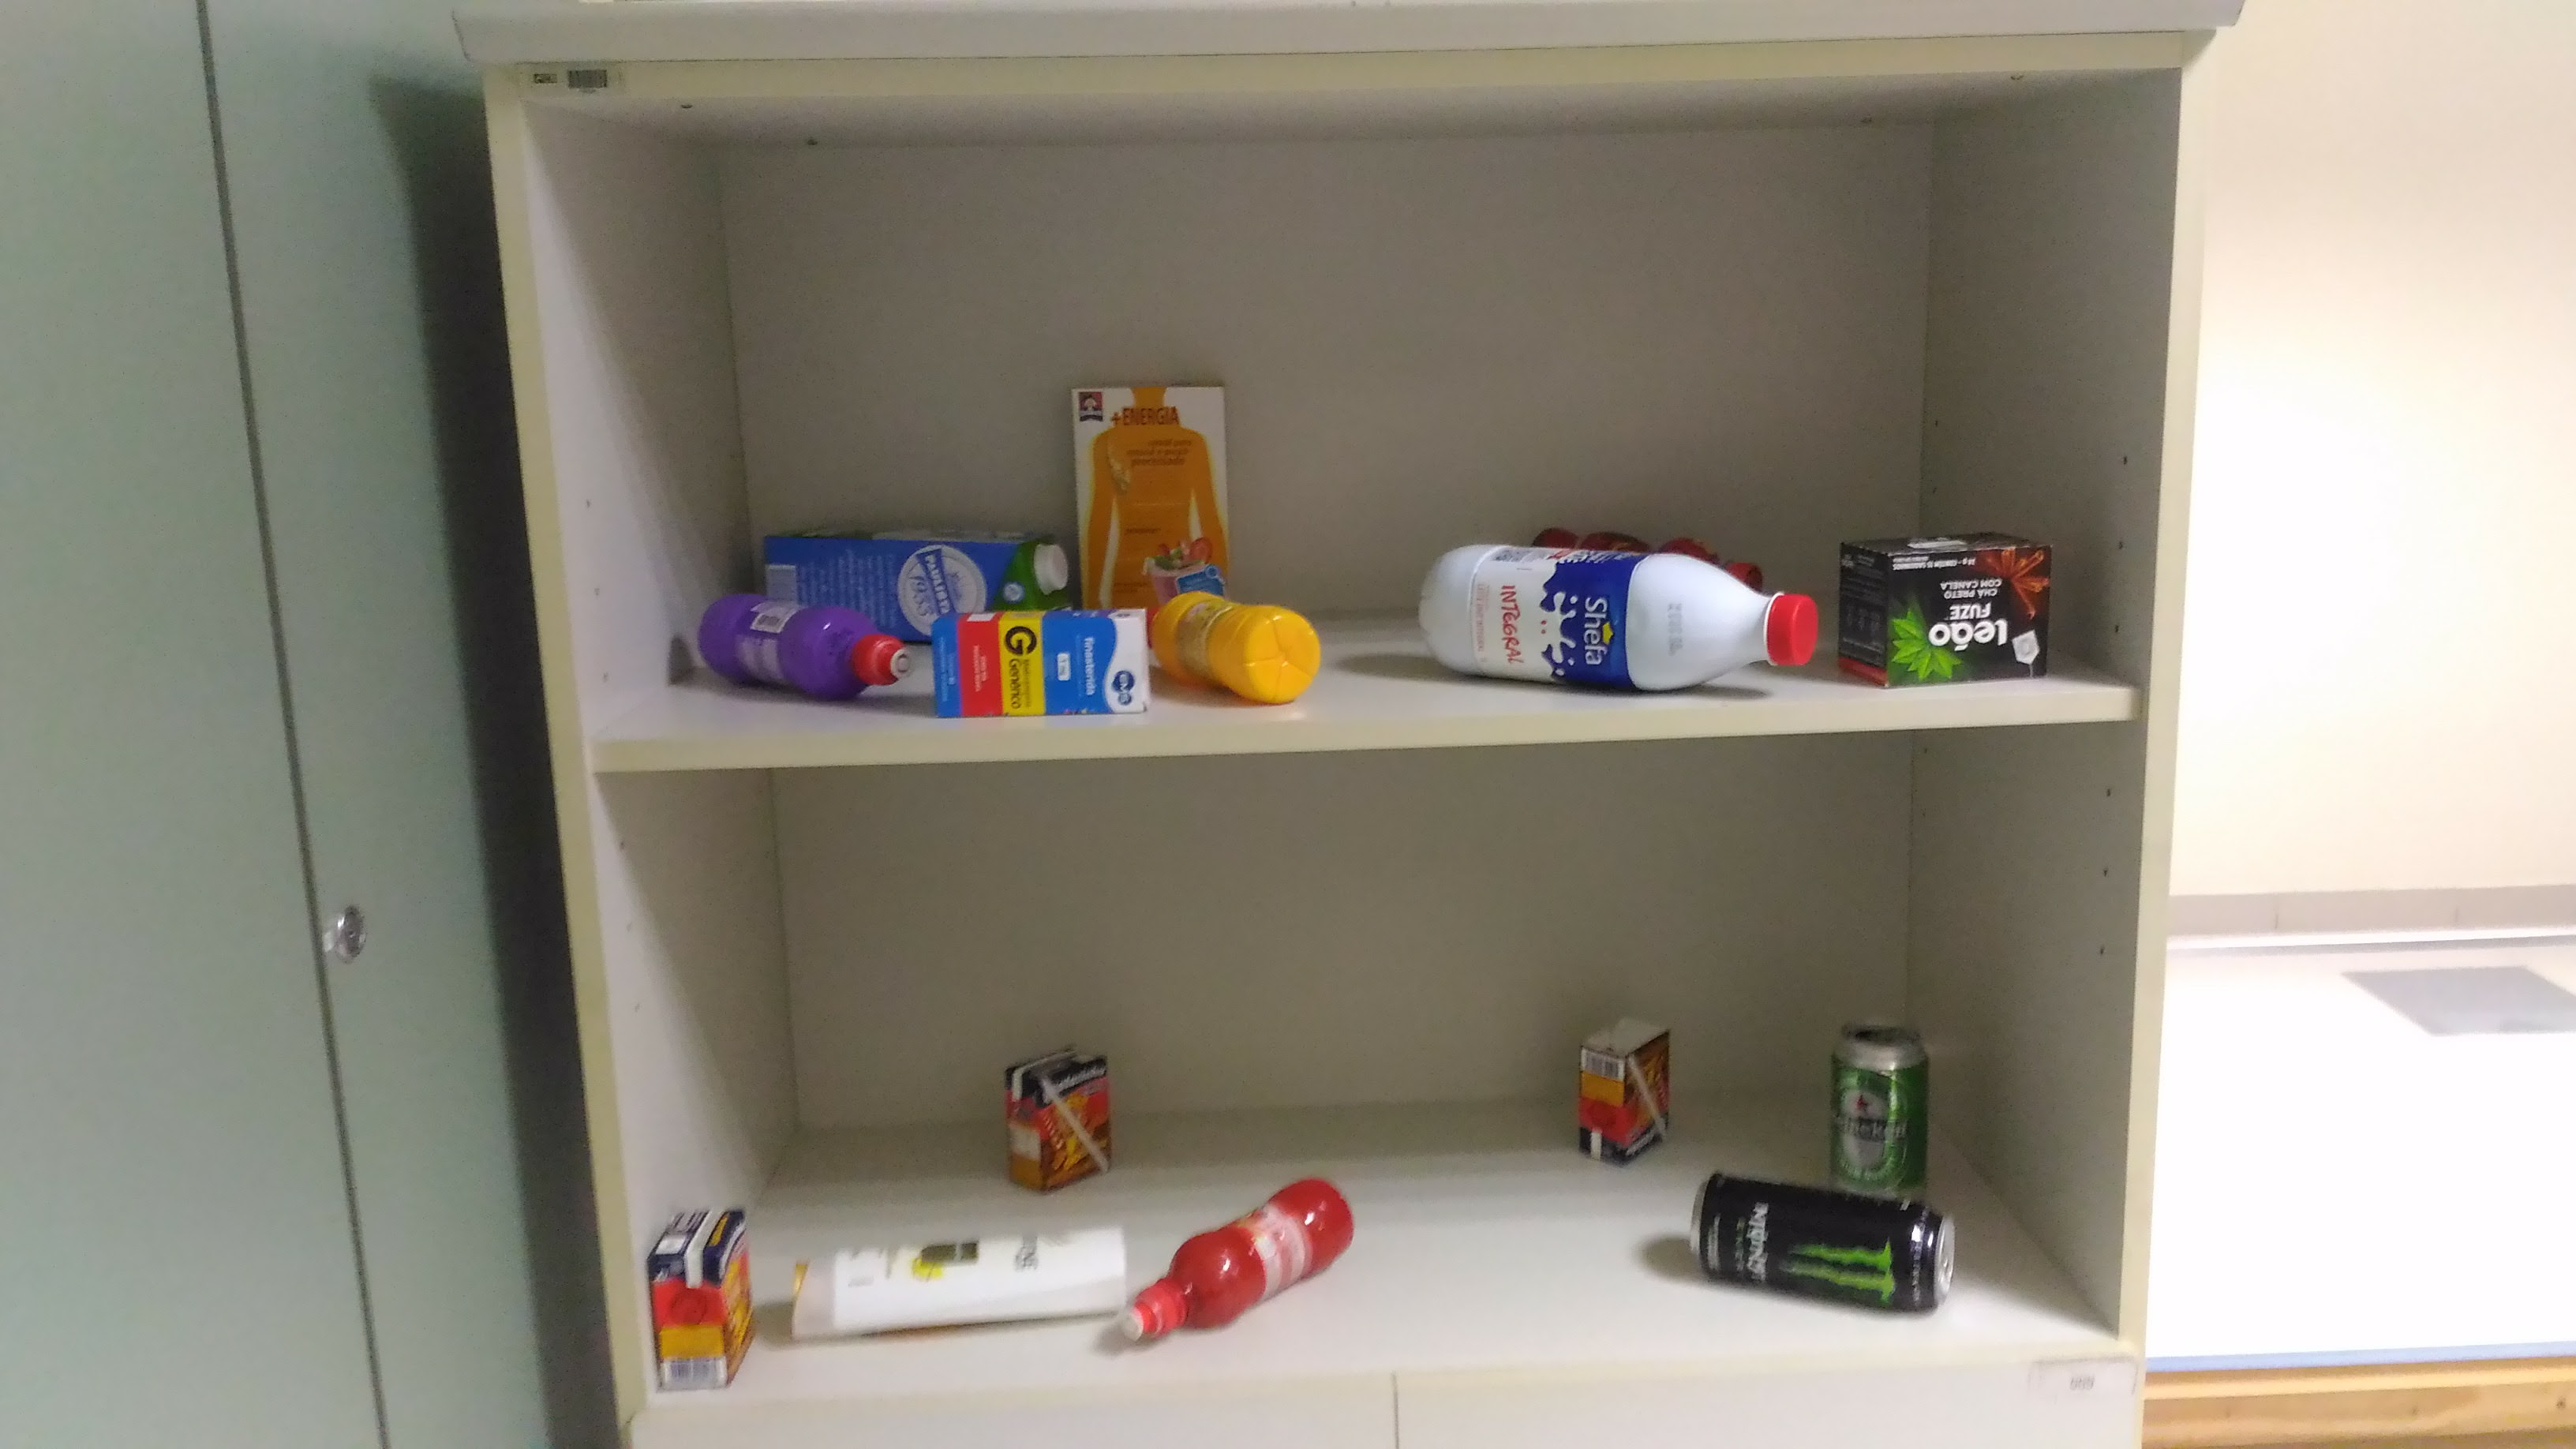cereal: (1062, 368, 1237, 596)
chocolate_milk: (639, 1200, 757, 1394), (1566, 1005, 1683, 1166), (1001, 1039, 1116, 1196)
heineken: (1817, 1014, 1939, 1201)
medicine: (922, 602, 1161, 724)
milk_bottle: (1415, 534, 1821, 697)
monster: (1683, 1166, 1967, 1329)
purple_juice: (690, 586, 915, 715)
red_juice: (1111, 1171, 1361, 1352)
shampoo: (780, 1223, 1131, 1346)
tea_box: (1831, 525, 2058, 686)
yellow_juice: (1146, 587, 1327, 709)
